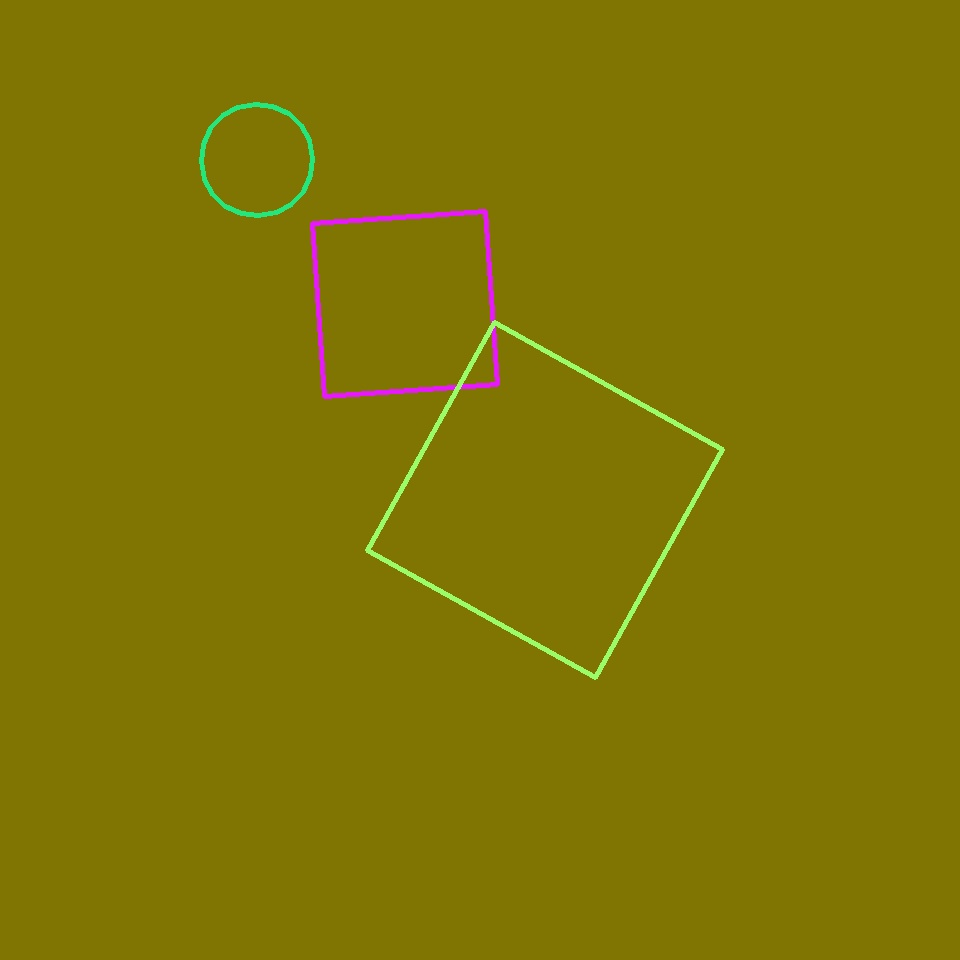square: (368, 322, 723, 678), (312, 211, 497, 396)
triangle: (202, 104, 312, 216)
